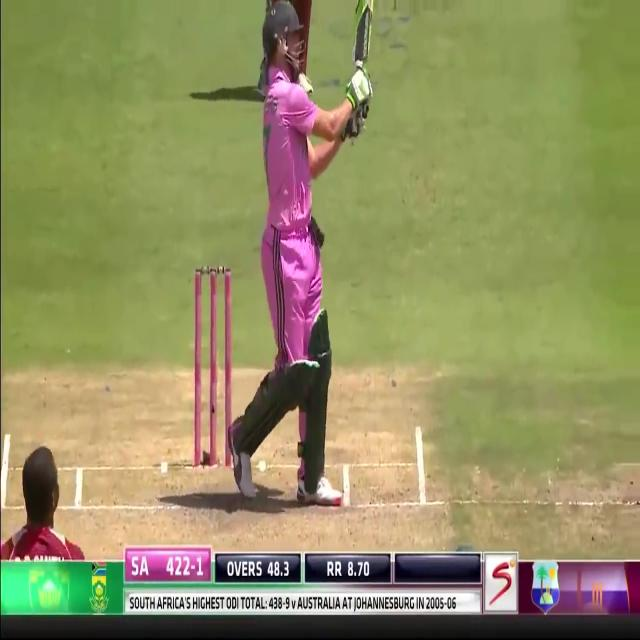Ball: (253, 0, 331, 501)
